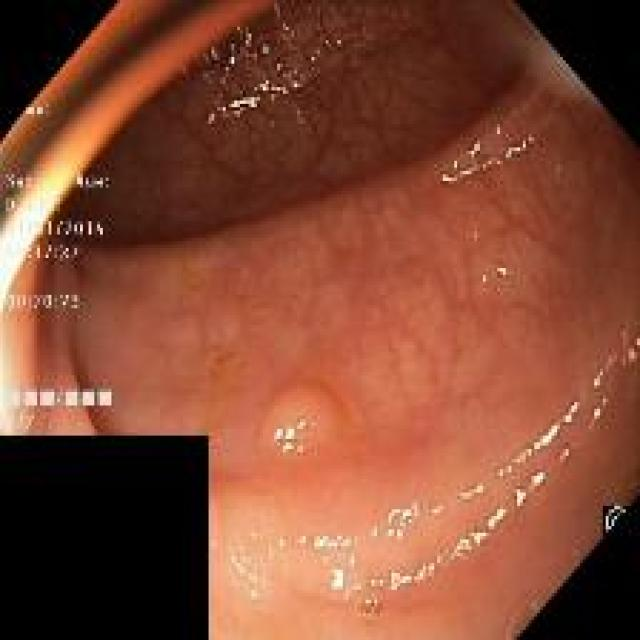Polyps: (259, 386, 342, 456)
